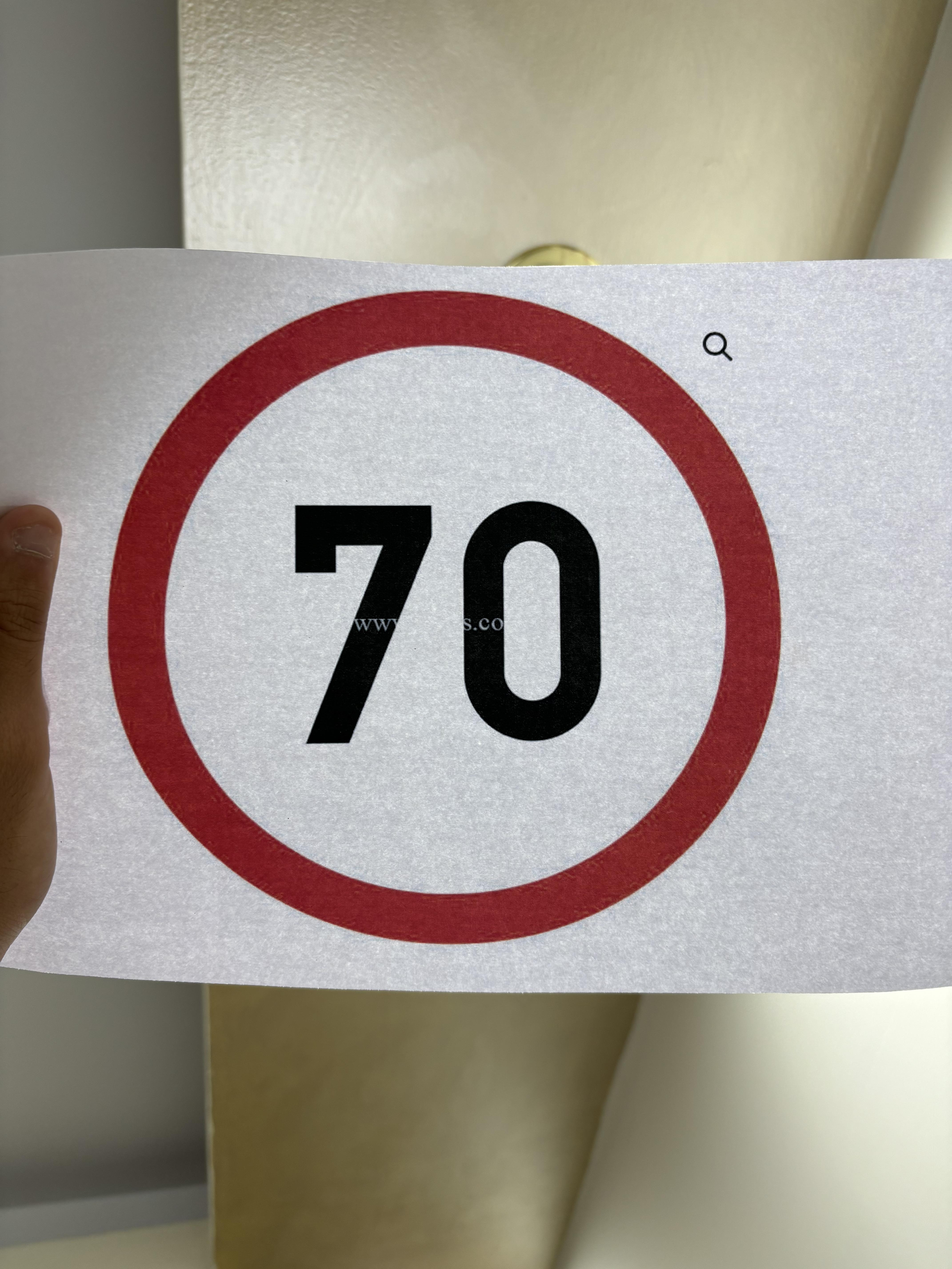70-Speed: (100, 283, 785, 950)
